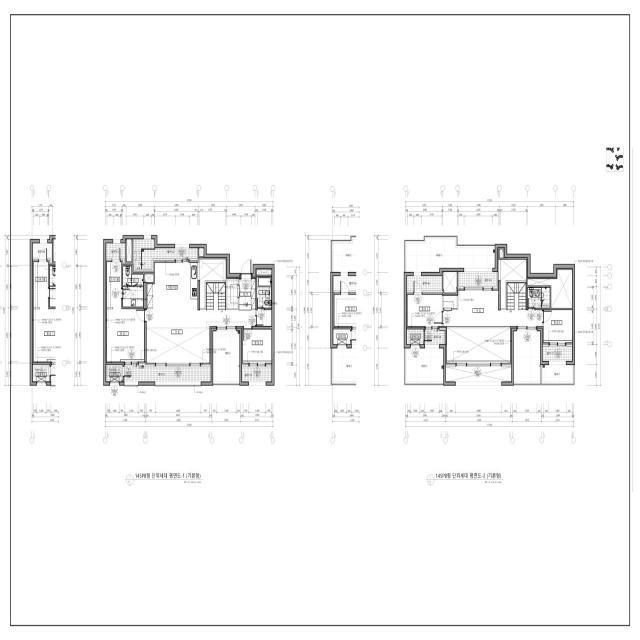space_balconi: (406, 239, 495, 272), (133, 239, 198, 269), (124, 366, 211, 382), (213, 331, 240, 382), (406, 348, 443, 382), (458, 272, 496, 287), (407, 276, 442, 292), (543, 365, 572, 382), (242, 367, 272, 382), (543, 347, 572, 361), (106, 243, 125, 261), (425, 330, 445, 345)
space_bedroom: (107, 309, 144, 362), (408, 295, 442, 326), (243, 329, 272, 363), (543, 310, 572, 342)
space_dressroom: (107, 262, 121, 309)
space_front: (239, 279, 255, 310)
space_kitchen: (147, 263, 198, 307)
space_living_room: (146, 309, 255, 363), (443, 291, 542, 326)
space_other: (447, 327, 510, 363), (528, 270, 572, 308), (514, 331, 540, 382), (199, 259, 226, 308), (500, 260, 526, 308), (446, 367, 511, 382), (206, 282, 226, 310), (507, 282, 526, 310), (227, 279, 238, 309), (443, 272, 457, 293), (256, 310, 272, 326), (443, 296, 457, 309), (127, 239, 132, 262), (257, 270, 272, 275), (144, 274, 153, 282), (199, 248, 204, 256), (500, 249, 503, 258)
space_outdoor_room: (106, 365, 123, 382), (407, 329, 423, 344)
space_toilet: (123, 266, 143, 307), (528, 288, 550, 308), (257, 277, 271, 308)
